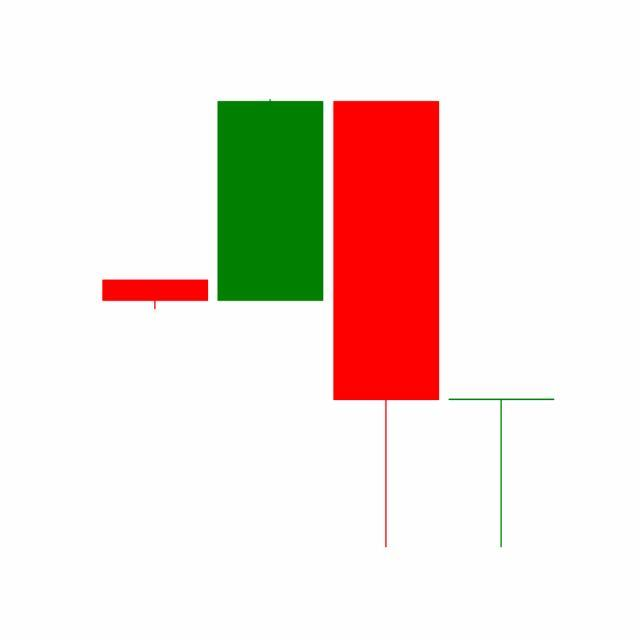Hanging Man: (444, 397, 560, 550)
